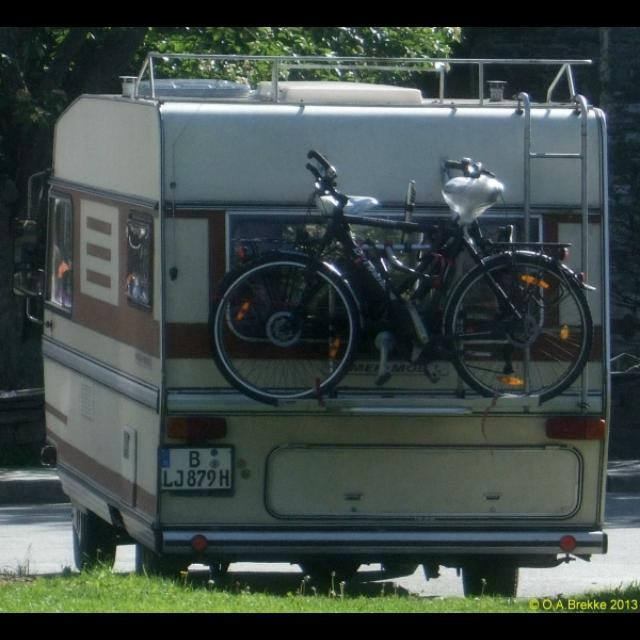d_license_plate: (159, 448, 231, 488)
